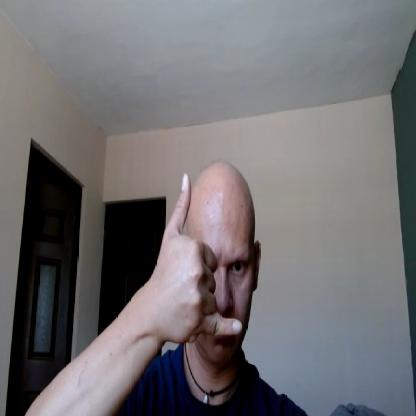Y: (152, 172, 242, 338)
